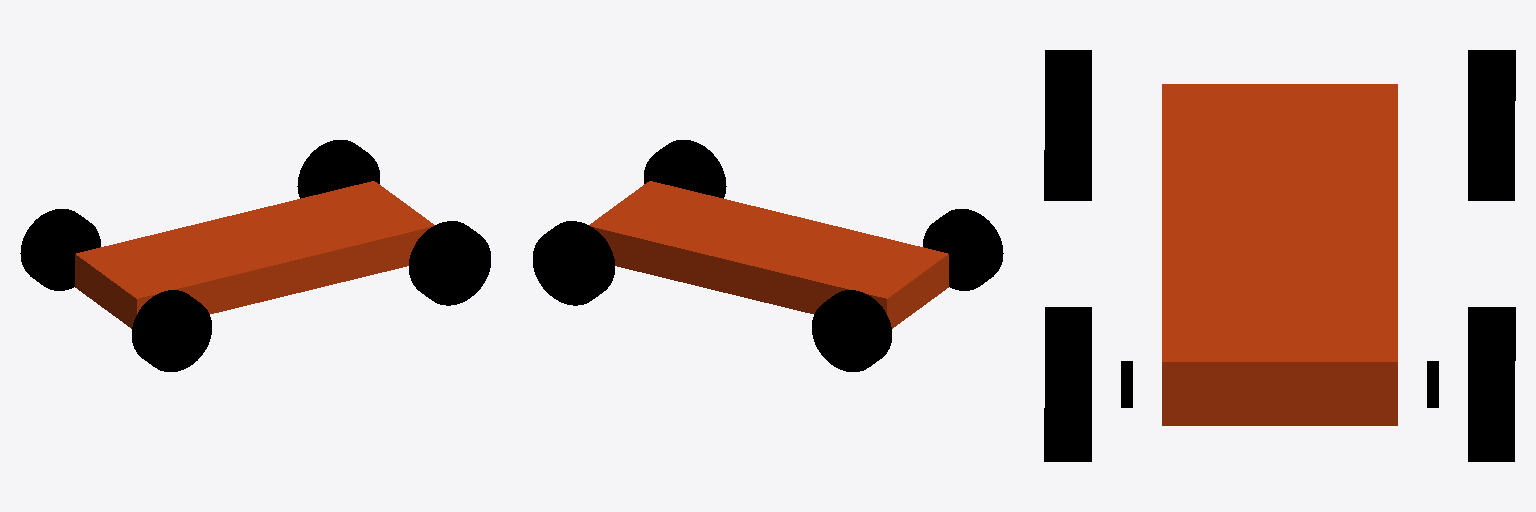
The robot description file, URDF, robot "racecar":
<?xml version="1.0" ?>
<!-- =================================================================================== -->
<!-- |    This document was autogenerated by xacro from [local-path]/桌面/gazebo_ws/src/racecar_description/urdf/racecar.xacro | -->
<!-- |    EDITING THIS FILE BY HAND IS NOT RECOMMENDED                                 | -->
<!-- =================================================================================== -->
<robot name="racecar">
  <!-- transmission macros -->
  <!-- <xacro:macro name="wheel_transmission" params="name">
  <transmission name="${name}_transmission" type="SimpleTransmission">
    <type>transmission_interface/SimpleTransmission</type>
    <joint name="${name}_joint">
      <hardwareInterface>hardware_interface/EffortJointInterface</hardwareInterface>
    </joint>
    <actuator name="${name}_motor">
      <hardwareInterface>hardware_interface/EffortJointInterface</hardwareInterface>
      <mechanicalReduction>1</mechanicalReduction>
    </actuator>
  </transmission>
</xacro:macro>

<xacro:macro name="steering_hinge_transmission" params="name">
  <transmission name="${name}_transmission" type="SimpleTransmission">
    <type>transmission_interface/SimpleTransmission</type>
    <joint name="${name}_joint">
      <hardwareInterface>hardware_interface/EffortJointInterface</hardwareInterface>
    </joint>
    <actuator name="${name}_motor">
      <hardwareInterface>hardware_interface/EffortJointInterface</hardwareInterface>
      <mechanicalReduction>1</mechanicalReduction>
    </actuator>
  </transmission>
</xacro:macro> -->
  <!-- motors and transmissions for the two rear wheels -->
  <transmission name="tran1">
    <type>transmission_interface/SimpleTransmission</type>
    <joint name="right_rear_wheel_joint">
      <hardwareInterface>hardware_interface/VelocityJointInterface</hardwareInterface>
    </joint>
    <actuator name="motor1">
      <hardwareInterface>hardware_interface/VelocityJointInterface</hardwareInterface>
      <mechanicalReduction>1</mechanicalReduction>
    </actuator>
  </transmission>
  <transmission name="tran2">
    <type>transmission_interface/SimpleTransmission</type>
    <joint name="left_rear_wheel_joint">
      <hardwareInterface>hardware_interface/VelocityJointInterface</hardwareInterface>
    </joint>
    <actuator name="motor2">
      <hardwareInterface>hardware_interface/VelocityJointInterface</hardwareInterface>
      <mechanicalReduction>1</mechanicalReduction>
    </actuator>
  </transmission>
  <!-- EPS and transmissions for the front steering -->
  <transmission name="tran3">
    <type>transmission_interface/SimpleTransmission</type>
    <joint name="right_steering_hinge_joint">
      <hardwareInterface>hardware_interface/EffortJointInterface</hardwareInterface>
    </joint>
    <actuator name="eps_right">
      <hardwareInterface>hardware_interface/EffortJointInterface</hardwareInterface>
      <mechanicalReduction>1</mechanicalReduction>
    </actuator>
  </transmission>
  <transmission name="tran4">
    <type>transmission_interface/SimpleTransmission</type>
    <joint name="left_steering_hinge_joint">
      <hardwareInterface>hardware_interface/EffortJointInterface</hardwareInterface>
    </joint>
    <actuator name="eps_left">
      <hardwareInterface>hardware_interface/EffortJointInterface</hardwareInterface>
      <mechanicalReduction>1</mechanicalReduction>
    </actuator>
  </transmission>
  <link name="base_footprint">
    </link>
  <link name="base_link">
    <visual>
      <geometry>
        <box size="2.8 1.0 0.3"/>
      </geometry>
      <origin rpy="0 0 0" xyz="0 0 0"/>
      <material name="yellow">
        <color rgba="0.8 0.3 0.1 0.5"/>
      </material>
    </visual>
    <collision>
      <geometry>
        <box size="2.8 1.0 0.3"/>
      </geometry>
      <origin rpy="0.0 0.0 0.0" xyz="0.0 0.0 0.0"/>
    </collision>
    <inertial>
      <origin xyz="0 0 0"/>
      <mass value="4"/>
      <inertia ixx="264" ixy="0" ixz="0" iyy="294" iyz="0" izz="36.4"/>
    </inertial>
  </link>
  <joint name="base_link2base_footprint" type="fixed">
    <parent link="base_footprint"/>
    <child link="base_link"/>
    <origin xyz="0 0 0.32"/>
  </joint>
  <link name="left_steering_hinge">
    <visual>
      <geometry>
        <cylinder length="0.05" radius="0.1"/>
        <!-- <sphere radius="0.015" /> -->
      </geometry>
      <origin rpy="1.57 0 0" xyz="0 0 0"/>
      <material name="black">
        <color rgba="0.0 0.0 0.0 1.0"/>
      </material>
    </visual>
    <collision>
      <geometry>
        <cylinder length="0.05" radius="0.1"/>
        <!-- <sphere radius="0.015" /> -->
      </geometry>
      <origin rpy="1.57 0.0 0.0" xyz="0.0 0.0 0.0"/>
    </collision>
    <inertial>
      <origin xyz="0 0 0"/>
      <mass value="1"/>
      <inertia ixx="2.7E-02" ixy="0" ixz="0" iyy="2.7E-02" iyz="0" izz="5E-02"/>
    </inertial>
  </link>
  <joint name="left_steering_hinge_joint" type="revolute">
    <parent link="base_link"/>
    <child link="left_steering_hinge"/>
    <origin xyz="1.3 0.65 0"/>
    <axis xyz="0 0 1"/>
    <limit effort="5" lower="-0.6" upper="0.6" velocity="100.0"/>
  </joint>
  <link name="left_front_wheel">
    <visual>
      <geometry>
        <cylinder length="0.2" radius="0.33"/>
      </geometry>
      <origin rpy="1.57 0 0" xyz="0 0 0"/>
      <material name="black">
        <color rgba="0.0 0.0 0.0 1.0"/>
      </material>
    </visual>
    <collision>
      <geometry>
        <cylinder length="0.2" radius="0.32"/>
      </geometry>
      <origin rpy="1.57 0.0 0.0" xyz="0.0 0.0 0.0"/>
    </collision>
    <inertial>
      <origin xyz="0 0 0"/>
      <mass value="2"/>
      <inertia ixx="6.64E-01" ixy="0" ixz="0" iyy="6.64E-01" iyz="0" izz="1.02E+00"/>
    </inertial>
  </link>
  <joint name="left_front_wheel_joint" type="continuous">
    <parent link="left_steering_hinge"/>
    <child link="left_front_wheel"/>
    <origin xyz="0 0.25 0"/>
    <axis xyz="0 1 0"/>
    <limit effort="10" velocity="1000"/>
  </joint>
  <link name="right_steering_hinge">
    <visual>
      <geometry>
        <cylinder length="0.05" radius="0.1"/>
      </geometry>
      <origin rpy="1.57 0 0" xyz="0 0 0"/>
      <material name="black">
        <color rgba="0.0 0.0 0.0 1.0"/>
      </material>
    </visual>
    <collision>
      <geometry>
        <cylinder length="0.05" radius="0.1"/>
      </geometry>
      <origin rpy="1.57 0.0 0.0" xyz="0.0 0.0 0.0"/>
    </collision>
    <inertial>
      <origin xyz="0 0 0"/>
      <mass value="1"/>
      <inertia ixx="2.7E-02" ixy="0" ixz="0" iyy="2.7E-02" iyz="0" izz="5E-02"/>
    </inertial>
  </link>
  <joint name="right_steering_hinge_joint" type="revolute">
    <parent link="base_link"/>
    <child link="right_steering_hinge"/>
    <origin xyz="1.3 -0.65 0"/>
    <axis xyz="0 0 1"/>
    <limit effort="5" lower="-0.6" upper="0.6" velocity="100.0"/>
  </joint>
  <link name="right_front_wheel">
    <visual>
      <geometry>
        <cylinder length="0.2" radius="0.33"/>
      </geometry>
      <origin rpy="1.57 0 0" xyz="0 0 0"/>
      <material name="black">
        <color rgba="0.0 0.0 0.0 1.0"/>
      </material>
    </visual>
    <collision>
      <geometry>
        <cylinder length="0.2" radius="0.32"/>
      </geometry>
      <origin rpy="1.57 0.0 0.0" xyz="0.0 0.0 0.0"/>
    </collision>
    <inertial>
      <origin xyz="0 0 0"/>
      <mass value="2"/>
      <inertia ixx="6.64E-01" ixy="0" ixz="0" iyy="6.64E-01" iyz="0" izz="1.02E+00"/>
    </inertial>
  </link>
  <joint name="right_front_wheel_joint" type="continuous">
    <parent link="right_steering_hinge"/>
    <child link="right_front_wheel"/>
    <origin xyz="0 -0.25 0"/>
    <axis xyz="0 1 0"/>
    <limit effort="10" velocity="1000"/>
  </joint>
  <link name="left_rear_wheel">
    <visual>
      <geometry>
        <cylinder length="0.2" radius="0.32"/>
      </geometry>
      <origin rpy="1.57 0 0" xyz="0 0 0"/>
      <material name="black">
        <color rgba="0.0 0.0 0.0 1.0"/>
      </material>
    </visual>
    <collision>
      <geometry>
        <cylinder length="0.2" radius="0.32"/>
      </geometry>
      <origin rpy="1.57 0.0 0.0" xyz="0.0 0.0 0.0"/>
    </collision>
    <inertial>
      <origin xyz="0 0 0"/>
      <mass value="2"/>
      <inertia ixx="6.64E-01" ixy="0" ixz="0" iyy="6.64E-01" iyz="0" izz="1.02E+00"/>
    </inertial>
  </link>
  <joint name="left_rear_wheel_joint" type="continuous">
    <parent link="base_link"/>
    <child link="left_rear_wheel"/>
    <origin xyz="-1.3 0.9 0"/>
    <axis xyz="0 1 0"/>
    <limit effort="10" velocity="1000"/>
  </joint>
  <link name="right_rear_wheel">
    <visual>
      <geometry>
        <cylinder length="0.2" radius="0.32"/>
      </geometry>
      <origin rpy="1.57 0 0" xyz="0 0 0"/>
      <material name="black">
        <color rgba="0.0 0.0 0.0 1.0"/>
      </material>
    </visual>
    <collision>
      <geometry>
        <cylinder length="0.2" radius="0.32"/>
      </geometry>
      <origin rpy="1.57 0.0 0.0" xyz="0.0 0.0 0.0"/>
    </collision>
    <inertial>
      <origin xyz="0 0 0"/>
      <mass value="2"/>
      <inertia ixx="6.64E-01" ixy="0" ixz="0" iyy="6.64E-01" iyz="0" izz="1.02E+00"/>
    </inertial>
  </link>
  <joint name="right_rear_wheel_joint" type="continuous">
    <parent link="base_link"/>
    <child link="right_rear_wheel"/>
    <origin xyz="-1.3 -0.9 0"/>
    <axis xyz="0 1 0"/>
    <limit effort="10" velocity="1000"/>
  </joint>
  <!-- Gazebo references -->
  <gazebo reference="base_link">
    <mu1 value="1.0"/>
    <mu2 value="1.0"/>
    <kp value="100000.0"/>
    <kd value="5.0"/>
    <material>Gazebo/Red</material>
  </gazebo>
  <gazebo reference="left_rear_wheel">
    <mu1 value="1.0"/>
    <mu2 value="1.0"/>
    <kp value="100000.0"/>
    <kd value="5.0"/>
    <fdir1 value="1 0 0"/>
    <material>Gazebo/Black</material>
  </gazebo>
  <gazebo reference="right_rear_wheel">
    <mu1 value="1.0"/>
    <mu2 value="1.0"/>
    <kp value="100000.0"/>
    <kd value="5.0"/>
    <fdir1 value="1 0 0"/>
    <material>Gazebo/Black</material>
  </gazebo>
  <gazebo reference="left_front_wheel">
    <mu1 value="1.0"/>
    <mu2 value="1.0"/>
    <kp value="100000.0"/>
    <kd value="5.0"/>
    <fdir1 value="0 0 1"/>
    <material>Gazebo/Black</material>
  </gazebo>
  <gazebo reference="right_front_wheel">
    <mu1 value="1.0"/>
    <mu2 value="1.0"/>
    <kp value="100000.0"/>
    <kd value="5.0"/>
    <fdir1 value="0 0 1"/>
    <material>Gazebo/Black</material>
  </gazebo>
  <gazebo reference="left_steering_hinge">
    <mu1 value="1.0"/>
    <mu2 value="1.0"/>
    <kp value="100000.0"/>
    <kd value="5.0"/>
    <fdir1 value="1 0 0"/>
    <material>Gazebo/Black</material>
  </gazebo>
  <gazebo reference="right_steering_hinge">
    <mu1 value="1.0"/>
    <mu2 value="1.0"/>
    <kp value="100000.0"/>
    <kd value="5.0"/>
    <fdir1 value="1 0 0"/>
    <material>Gazebo/Black</material>
  </gazebo>
  <!-- Gazebo plugins -->
  <gazebo>
    <plugin filename="libgazebo_ros_control.so" name="gazebo_ros_control">
      <robotNamespace>/racecar</robotNamespace>
      <robotParam>robot_description</robotParam>
      <robotSimType>gazebo_ros_control/DefaultRobotHWSim</robotSimType>
    </plugin>
  </gazebo>
  <gazebo>
    <plugin filename="libgazebo_ros_joint_state_publisher.so" name="joint_state_publisher">
      <jointName>
        right_rear_wheel_joint, 
        left_rear_wheel_joint, 
        right_front_wheel_joint, 
        right_steering_hinge_joint, 
        left_front_wheel_joint, 
        left_steering_hinge_joint
      </jointName>
      <updateRate>50.0</updateRate>
      <robotNamespace>/racecar</robotNamespace>
      <alwaysOn>true</alwaysOn>
    </plugin>
  </gazebo>
  <!-- Gazebo Plugins -->
</robot>

--- What the picture shows (computed from the rendered views, not written in the file) ---
3 views of the same robot in one strip: view 1: azimuth 30°, elevation 25°; view 2: azimuth 150°, elevation 25°; view 3: azimuth 270°, elevation 25° (orthographic).
Robot: racecar — 8 links, 7 joints (2 revolute, 4 continuous, 1 fixed); root link base_footprint; default pose: every joint at zero.
Links seen in each view (by area): view 1: base_link, right_front_wheel, right_rear_wheel, left_rear_wheel, left_front_wheel; view 2: base_link, left_front_wheel, left_rear_wheel, right_rear_wheel, right_front_wheel; view 3: base_link, left_front_wheel, right_front_wheel, left_rear_wheel, right_rear_wheel, left_steering_hinge, right_steering_hinge.
Link boxes in pixels (x1,y1,x2,y2): base_link: (75, 181, 434, 328); right_front_wheel: (409, 221, 490, 305); right_rear_wheel: (132, 290, 211, 371); left_rear_wheel: (20, 209, 100, 290); left_front_wheel: (297, 140, 379, 198); base_link: (589, 181, 948, 328); left_front_wheel: (533, 221, 614, 305); left_rear_wheel: (812, 290, 891, 371); right_rear_wheel: (923, 209, 1003, 290); right_front_wheel: (644, 140, 726, 198); base_link: (1162, 84, 1397, 425); left_front_wheel: (1468, 307, 1515, 461); right_front_wheel: (1044, 307, 1091, 461); left_rear_wheel: (1468, 50, 1515, 200); right_rear_wheel: (1044, 50, 1091, 200); left_steering_hinge: (1427, 361, 1438, 407); right_steering_hinge: (1121, 361, 1132, 407).
Size in the robot's own frame: 3.25 by 2 by 0.6602 metres.
Geometry: primitives only (box / cylinder / sphere), no mesh files.
